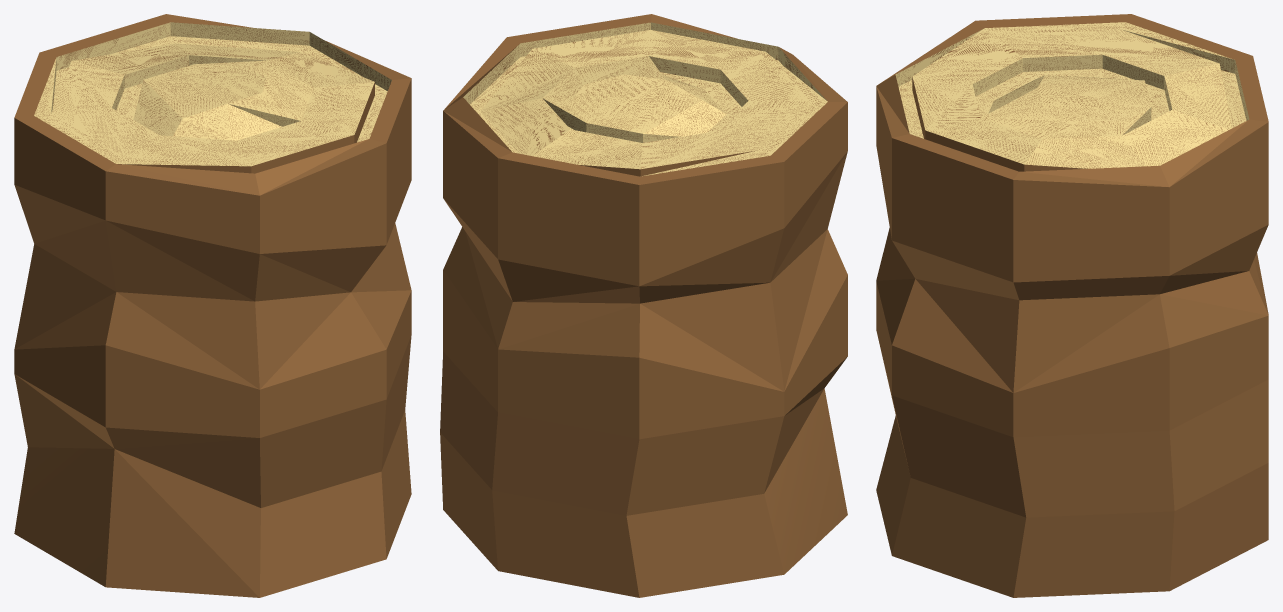
File: Chair.fbx
3 views of the same model, side by side, from view 1: azimuth 30°, elevation 25°; view 2: azimuth 150°, elevation 25°; view 3: azimuth 270°, elevation 25° (orthographic).
Visible parts, largest first — view 1: Group1; view 2: Group1; view 3: Group1.
Boxes of the visible parts, x1,y1,x2,y2 form: Group1: [14, 14, 411, 597]; Group1: [440, 14, 847, 597]; Group1: [876, 14, 1268, 597].
Bounding box in the file's own units: 383 × 467 × 383.
